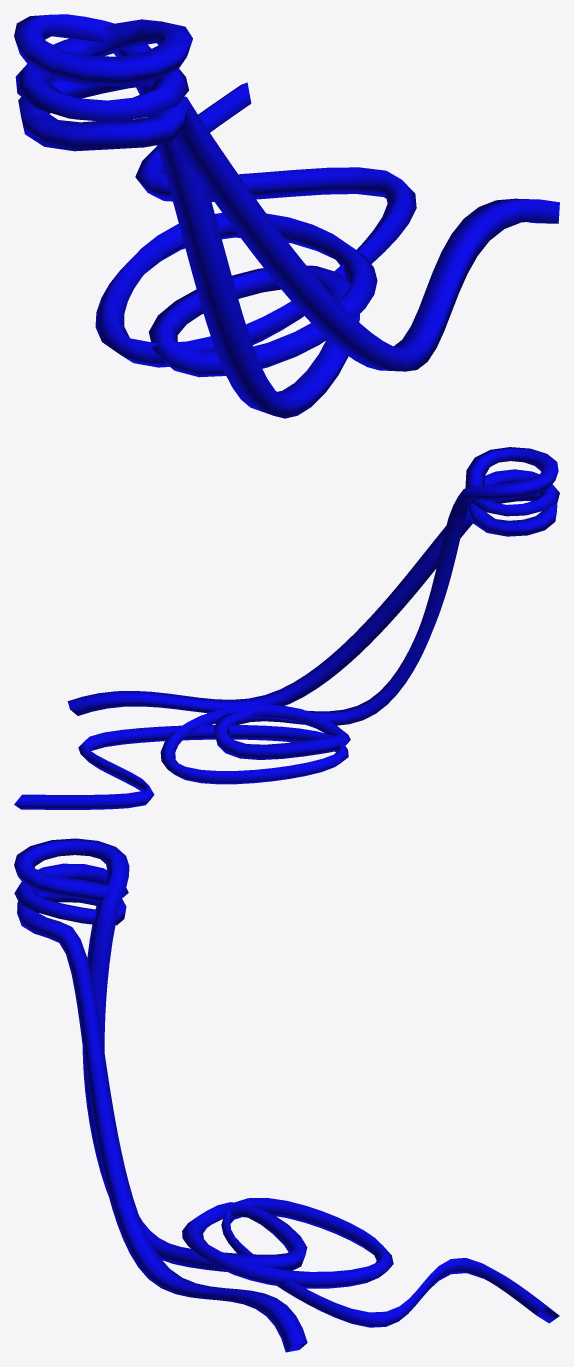
The model's file is RopeFastened.fbx.
The picture shows the model from 3 angles, top to bottom: view 1: azimuth 30°, elevation 25°; view 2: azimuth 150°, elevation 25°; view 3: azimuth 270°, elevation 25°; orthographic projection. The views are drawn at different scales.
Parts seen in each view (by area): view 1: RopeFastened; view 2: RopeFastened; view 3: RopeFastened.
Boxes of the visible parts, <box> form: RopeFastened: <box>14,14,559,418</box>; RopeFastened: <box>14,447,559,809</box>; RopeFastened: <box>14,838,559,1352</box>.
Size of the model in its own units: 1.65 by 1.09 by 1.73.
